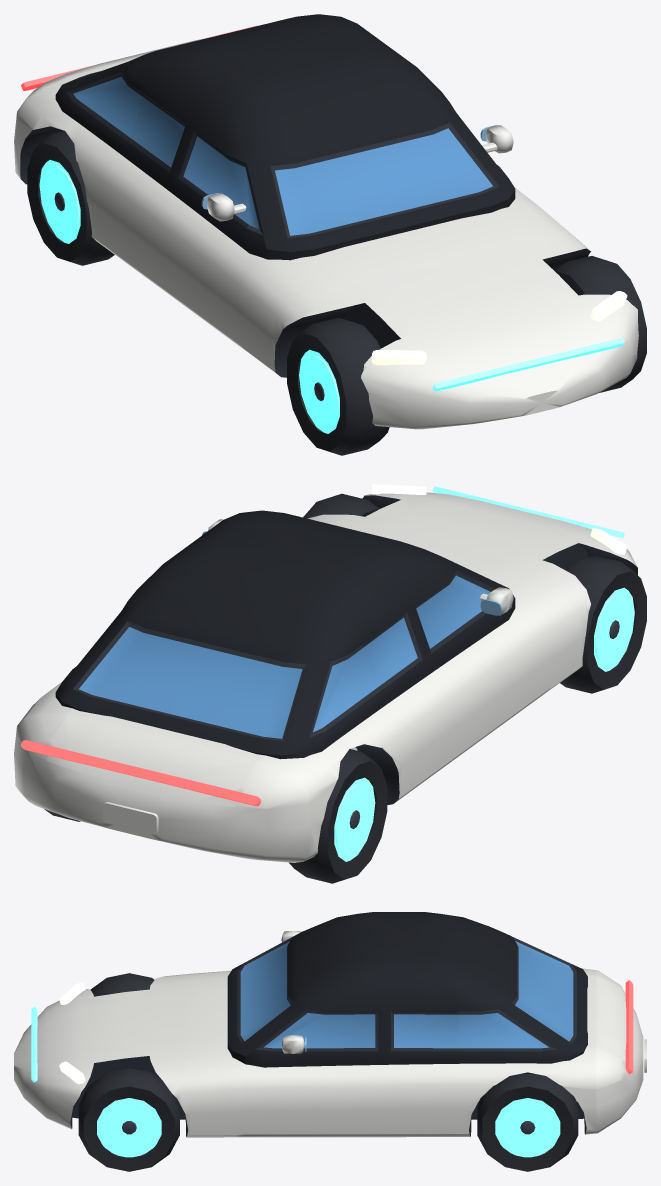
The model's file is futurista_sedan_branco.glb.
3 renders of one model, top to bottom at view 1: azimuth 30°, elevation 25°; view 2: azimuth 150°, elevation 25°; view 3: azimuth 270°, elevation 25°, orthographic. The views are drawn at different scales.
Parts seen in each view (by area): view 1: futurista_sedan_branco, porta_dianteira_esq, roda_dianteira_esq, porta_traseira_esq, roda_traseira_esq, roda_dianteira_dir; view 2: futurista_sedan_branco, porta_dianteira_esq, porta_malas, porta_traseira_esq, roda_dianteira_esq, roda_traseira_esq, roda_dianteira_dir; view 3: futurista_sedan_branco, porta_dianteira_dir, porta_traseira_dir, roda_dianteira_dir, roda_traseira_dir, porta_malas, roda_dianteira_esq.
Part boxes in pixels (left/top/right/bottom): futurista_sedan_branco: left=14, top=14, right=638, bottom=429; porta_dianteira_esq: left=145, top=128, right=269, bottom=342; roda_dianteira_esq: left=287, top=317, right=389, bottom=455; porta_traseira_esq: left=98, top=93, right=190, bottom=275; roda_traseira_esq: left=27, top=131, right=114, bottom=265; roda_dianteira_dir: left=554, top=256, right=646, bottom=392; futurista_sedan_branco: left=14, top=484, right=637, bottom=862; porta_dianteira_esq: left=411, top=570, right=546, bottom=757; porta_malas: left=46, top=713, right=257, bottom=806; porta_traseira_esq: left=363, top=609, right=455, bottom=792; roda_dianteira_esq: left=560, top=555, right=646, bottom=693; roda_traseira_esq: left=289, top=749, right=387, bottom=883; roda_dianteira_dir: left=303, top=493, right=379, bottom=518; futurista_sedan_branco: left=14, top=912, right=646, bottom=1137; porta_dianteira_dir: left=244, top=1009, right=384, bottom=1133; porta_traseira_dir: left=384, top=1011, right=457, bottom=1133; roda_dianteira_dir: left=78, top=1068, right=179, bottom=1171; roda_traseira_dir: left=477, top=1074, right=578, bottom=1171; porta_malas: left=595, top=976, right=634, bottom=1064; roda_dianteira_esq: left=90, top=973, right=154, bottom=996.
Bounding box in the file's own units: 1.96 × 1.44 × 4.51.
5 materials, 1 textured.
